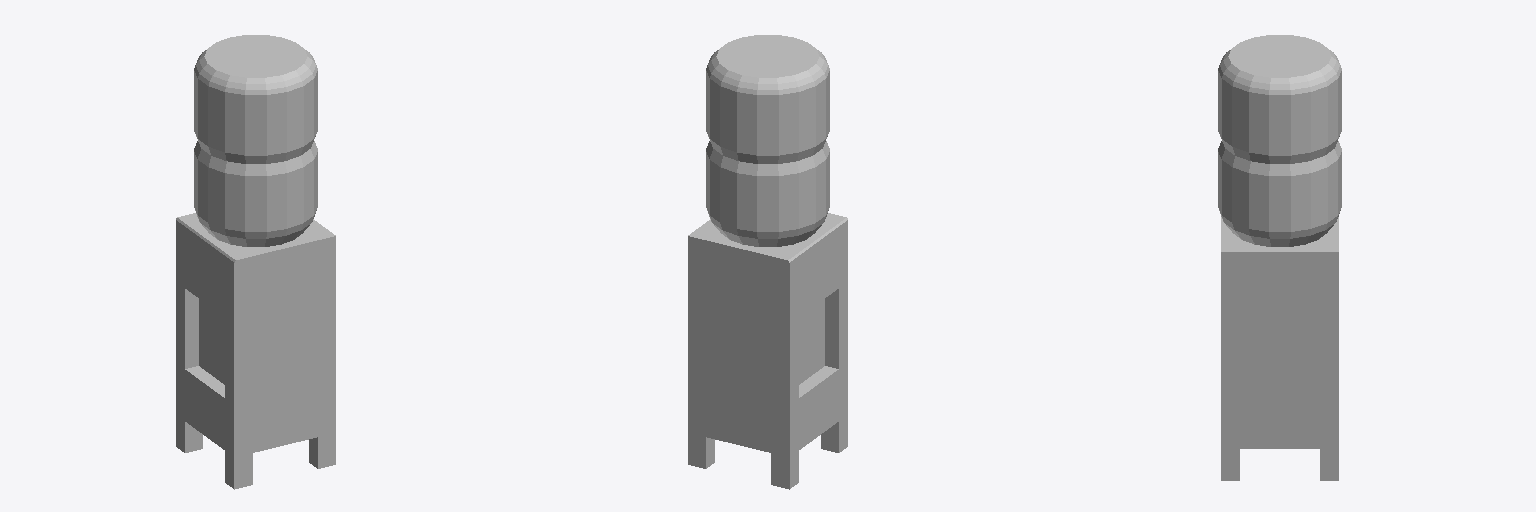
File: water cooler.obj
3 views of the same model, side by side, from view 1: azimuth 30°, elevation 25°; view 2: azimuth 150°, elevation 25°; view 3: azimuth 270°, elevation 25° (orthographic).
Visible parts, largest first — view 1: Cube.001; view 2: Cube.001; view 3: Cube.001.
Boxes of the visible parts, <box> form: Cube.001: <box>176,35,335,489</box>; Cube.001: <box>688,35,847,489</box>; Cube.001: <box>1218,35,1341,480</box>.
Bounding box in the file's own units: 1.12 × 4.03 × 1.14.